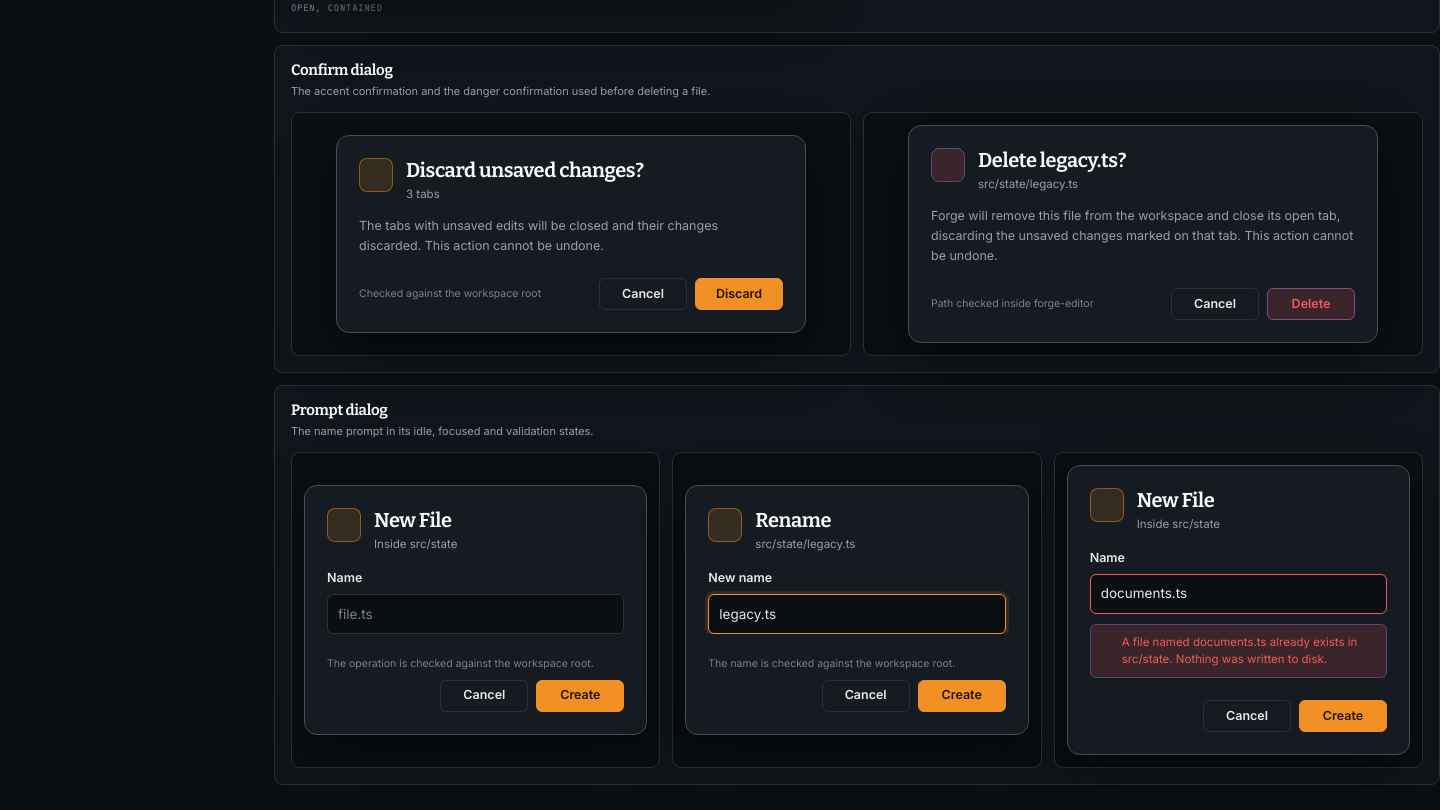
it: kit overlays gallery › closes a prompt on cancel and restores it from the gallery
(page scrolled)
Click the 3rd button "Cancel".
click(484, 696)  # box 440,680 -> 528,712
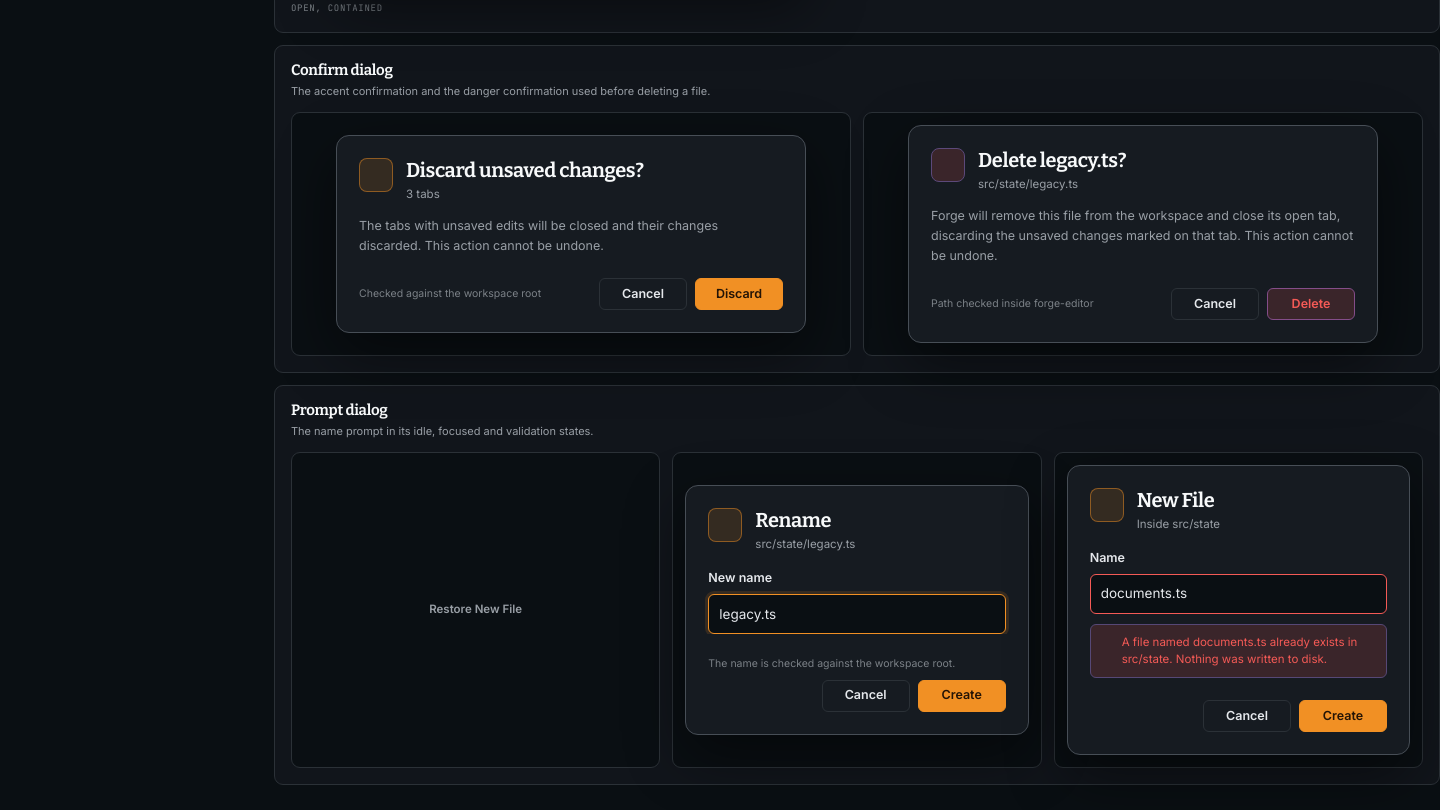
Now the dialog with test id "prompt-dialog-idle" is gone
Click the button with test id "prompt-dialog-idle-restore".
click(476, 610)  # box 419,597 -> 532,623
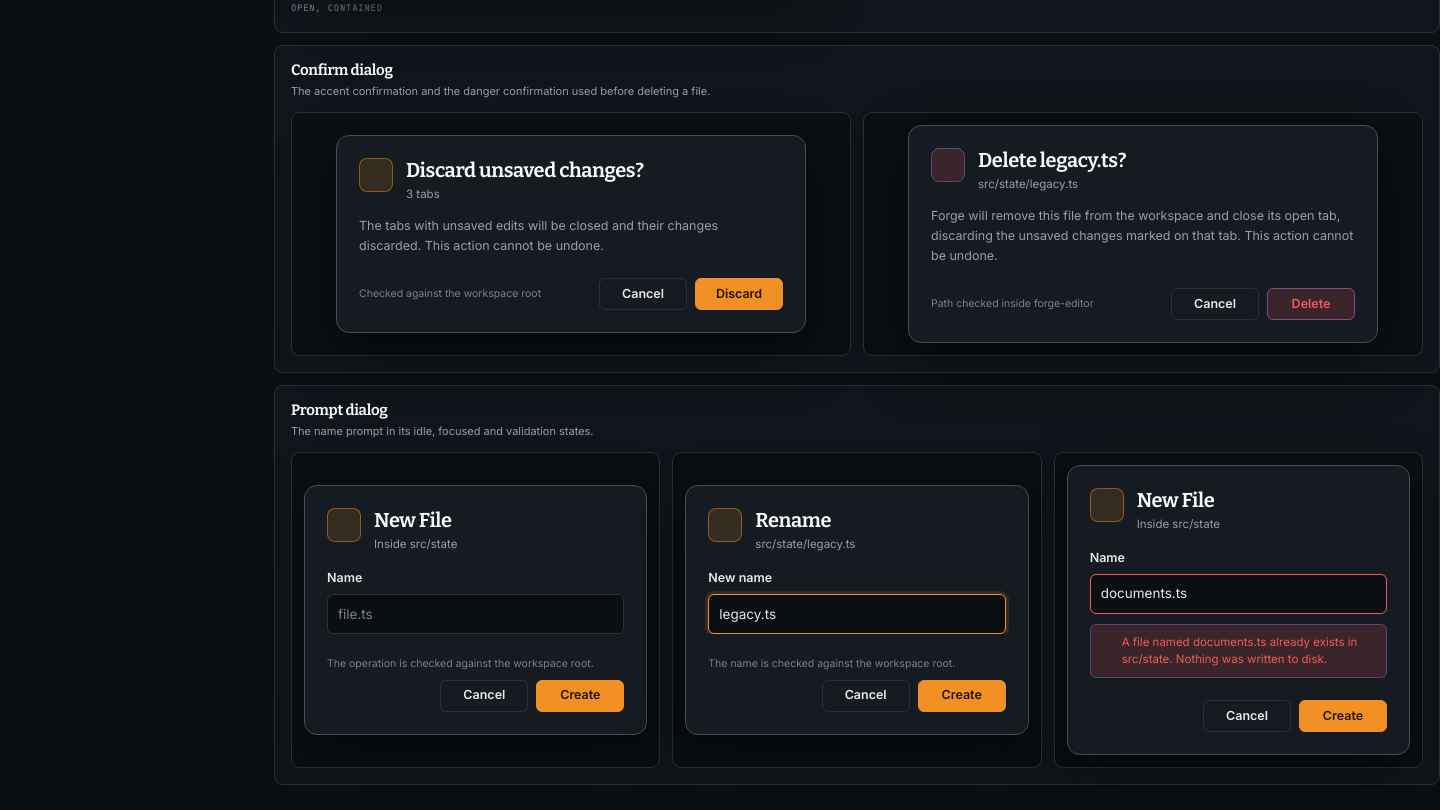
Now the dialog with test id "prompt-dialog-idle" is shown, box 304,485 -> 647,735
